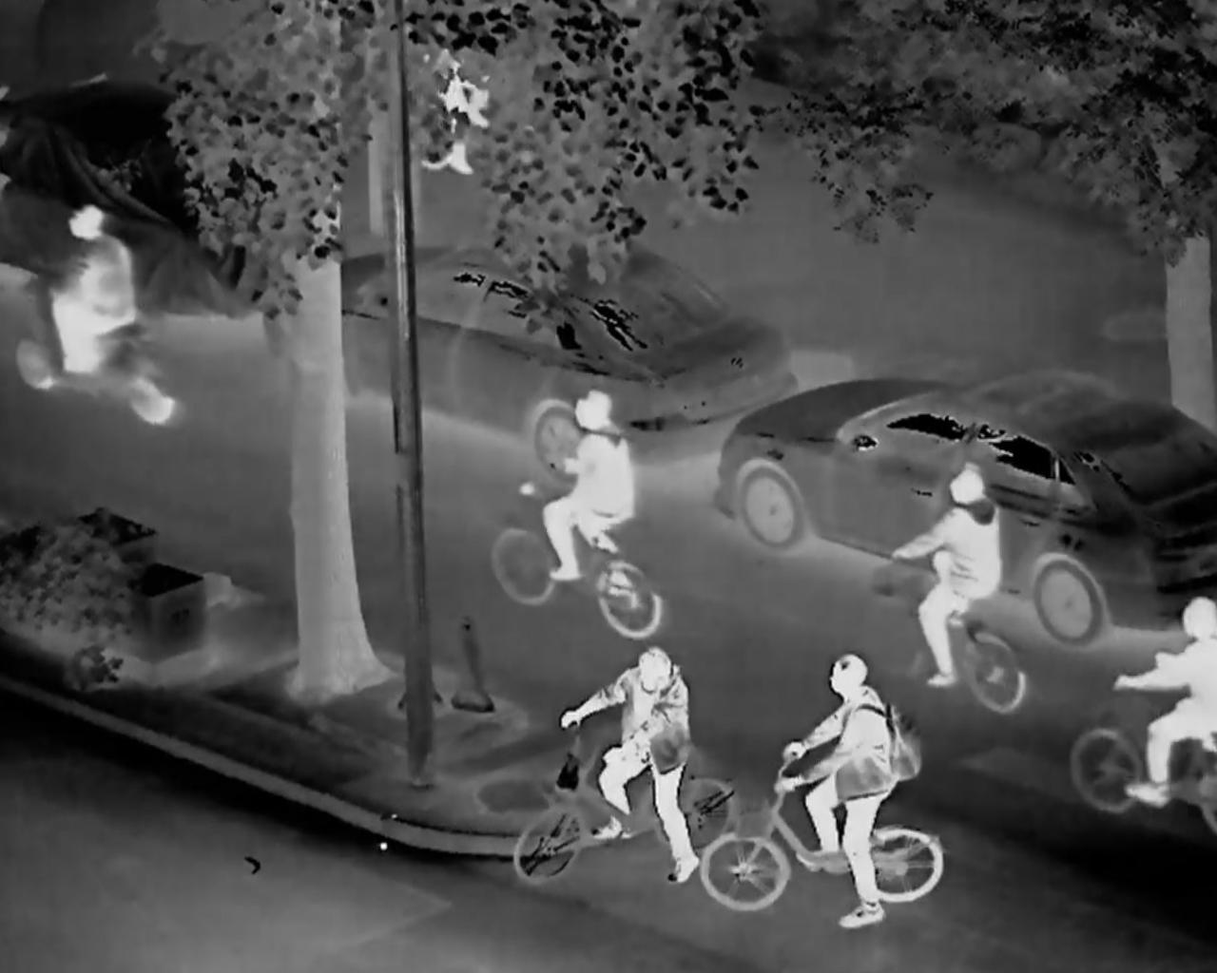person: (786, 649, 924, 948), (562, 641, 715, 885), (887, 435, 1011, 695), (527, 382, 653, 610), (1099, 577, 1217, 817), (45, 186, 146, 374), (409, 47, 510, 181)
